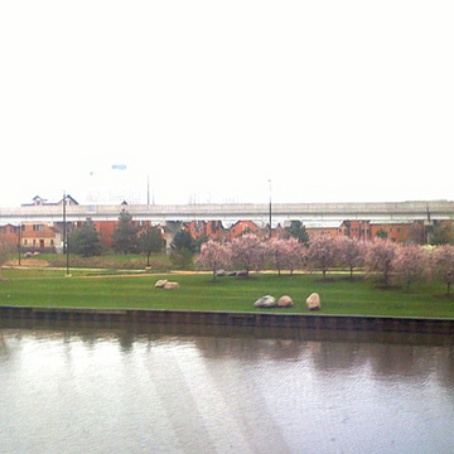river: (1, 322, 454, 454)
sky: (1, 1, 448, 198)
vegetation: (204, 231, 454, 290)
